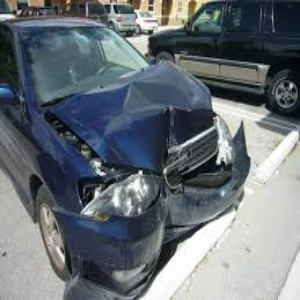bonnet: (91, 72, 214, 162)
bumper: (61, 169, 265, 263)
